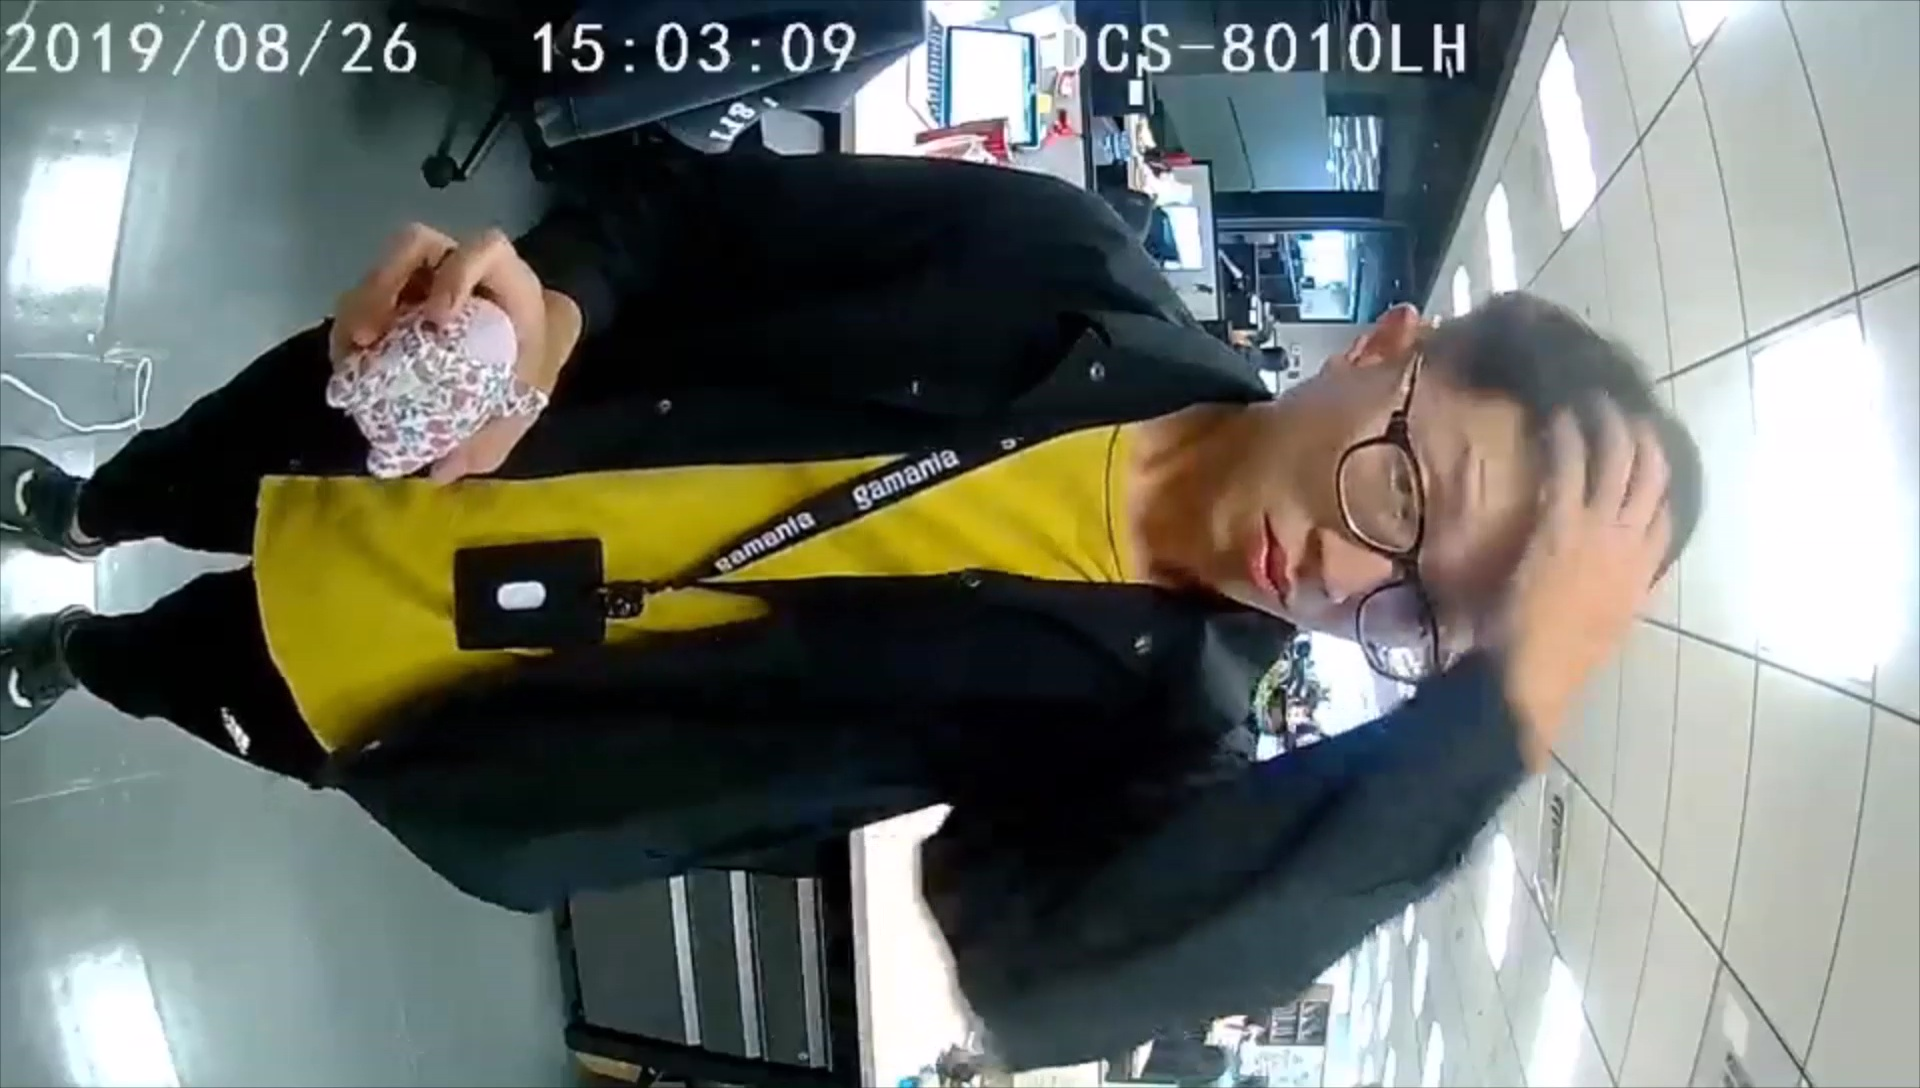pig: (322, 294, 550, 480)
